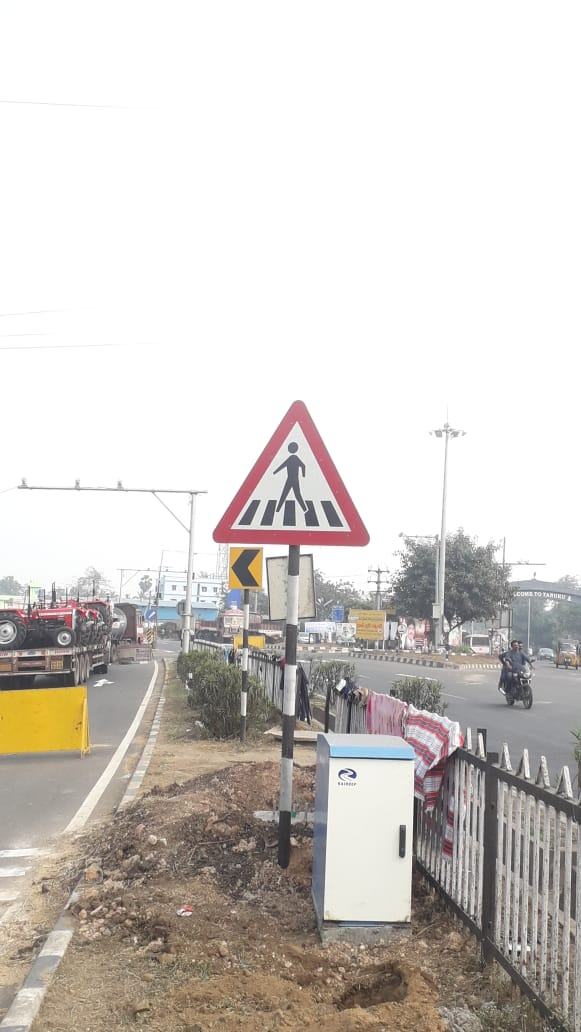pedestrian crossing: (205, 400, 393, 549)
